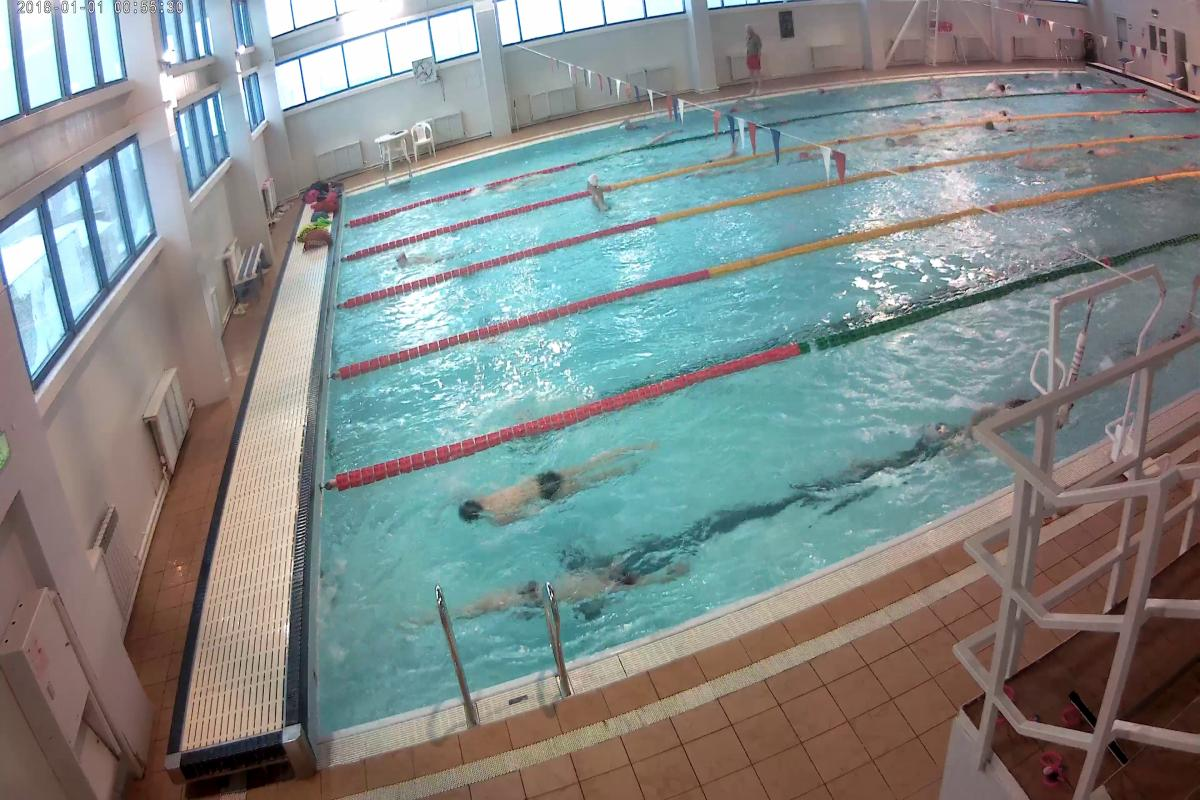swimmer: (420, 455, 684, 496), (443, 566, 709, 598), (580, 173, 633, 218), (376, 251, 455, 278)
